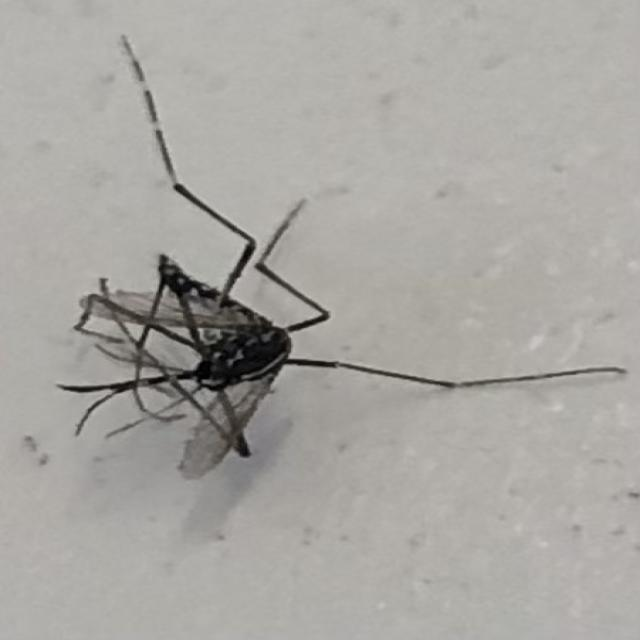albopictus: (38, 31, 467, 474)
